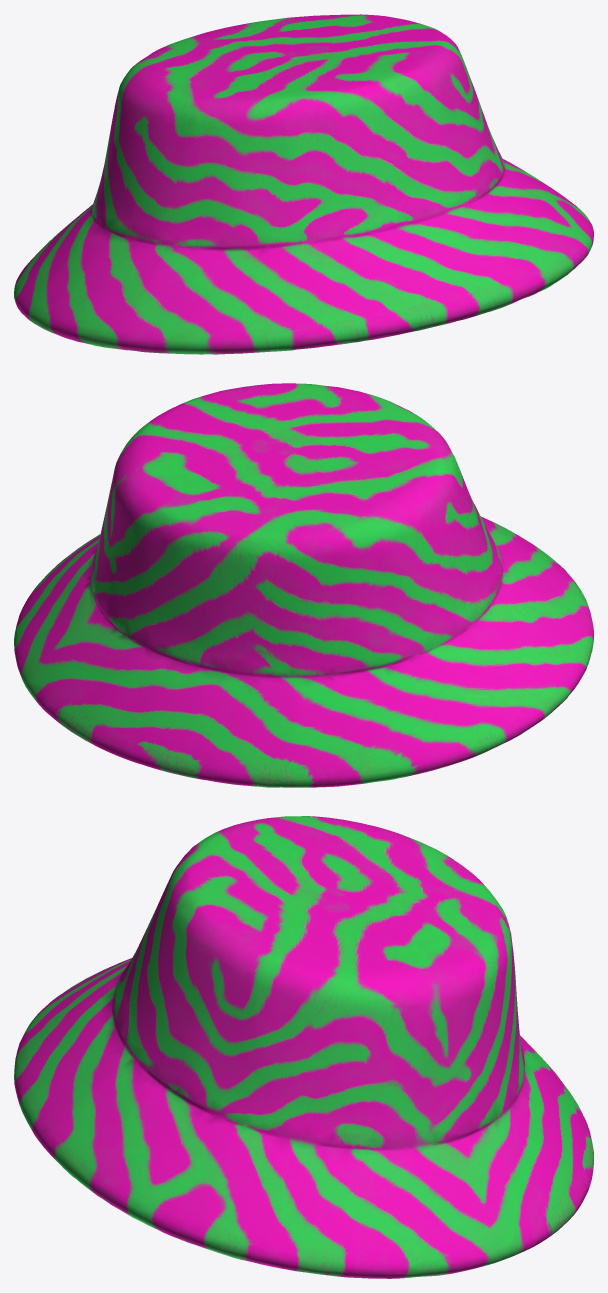
Rendered from Fuzzy-Bucket-Pink-Green.glb.
The picture shows the model from 3 angles, top to bottom: view 1: azimuth 30°, elevation 25°; view 2: azimuth 150°, elevation 25°; view 3: azimuth 270°, elevation 25°; orthographic projection. The views are drawn at different scales.
Visible parts, largest first — view 1: Fuzzy-Bucket-Pink-Green; view 2: Fuzzy-Bucket-Pink-Green; view 3: Fuzzy-Bucket-Pink-Green.
Boxes of the visible parts, <box> form: Fuzzy-Bucket-Pink-Green: <box>14,14,593,354</box>; Fuzzy-Bucket-Pink-Green: <box>14,383,593,787</box>; Fuzzy-Bucket-Pink-Green: <box>14,816,593,1278</box>.
Size of the model in its own units: 0.7047 by 0.336 by 0.5977.
1 material, 1 textured.
